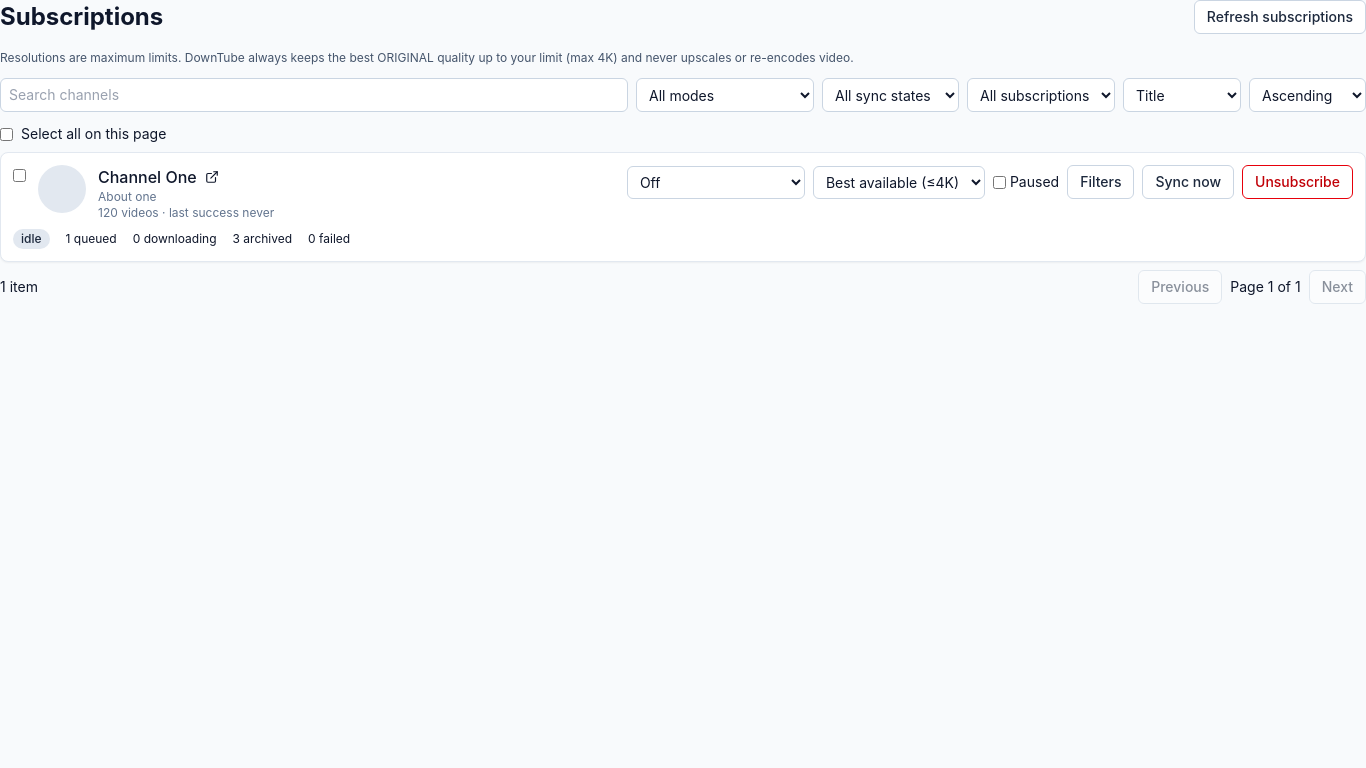
Test case: SubscriptionsPage › unsubscribes after confirmation when the manage permission is granted
Step 1. Click the button with aria-label "Unsubscribe from Channel One" → (1298, 182), box [1242,165,1353,199]
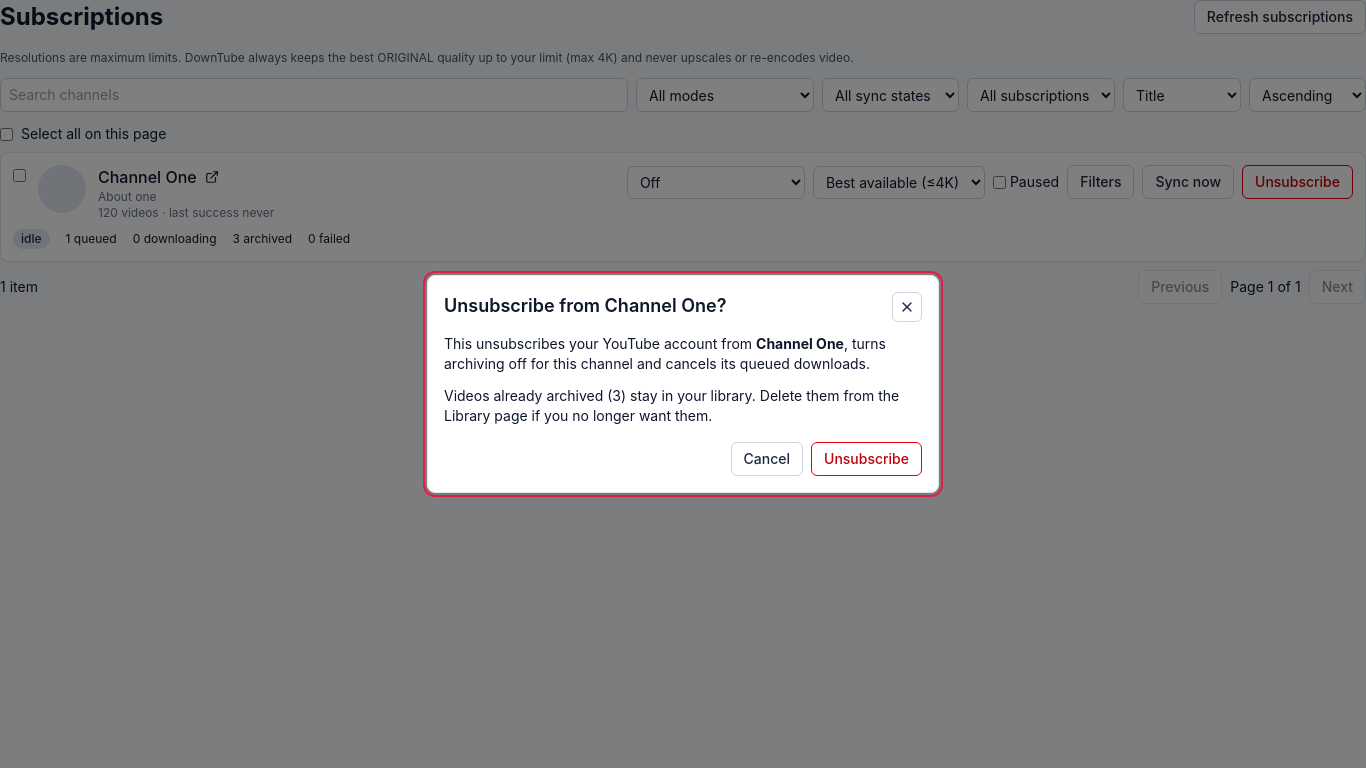
Check: the dialog "Unsubscribe from Channel One" shows "stay in your library", box [444,387,899,424]
Step 2. Click the button "Unsubscribe" → (866, 459), box [811,442,922,476]
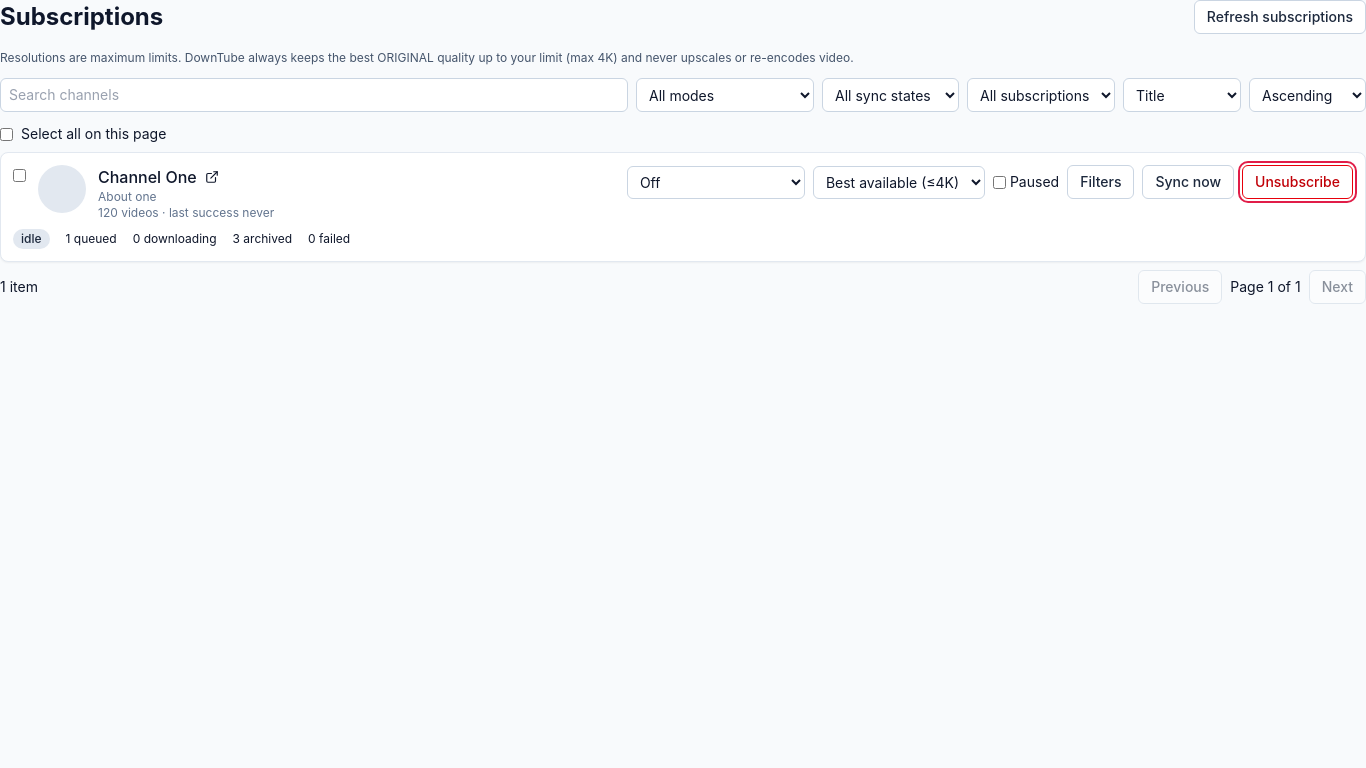
Check: the dialog is gone
